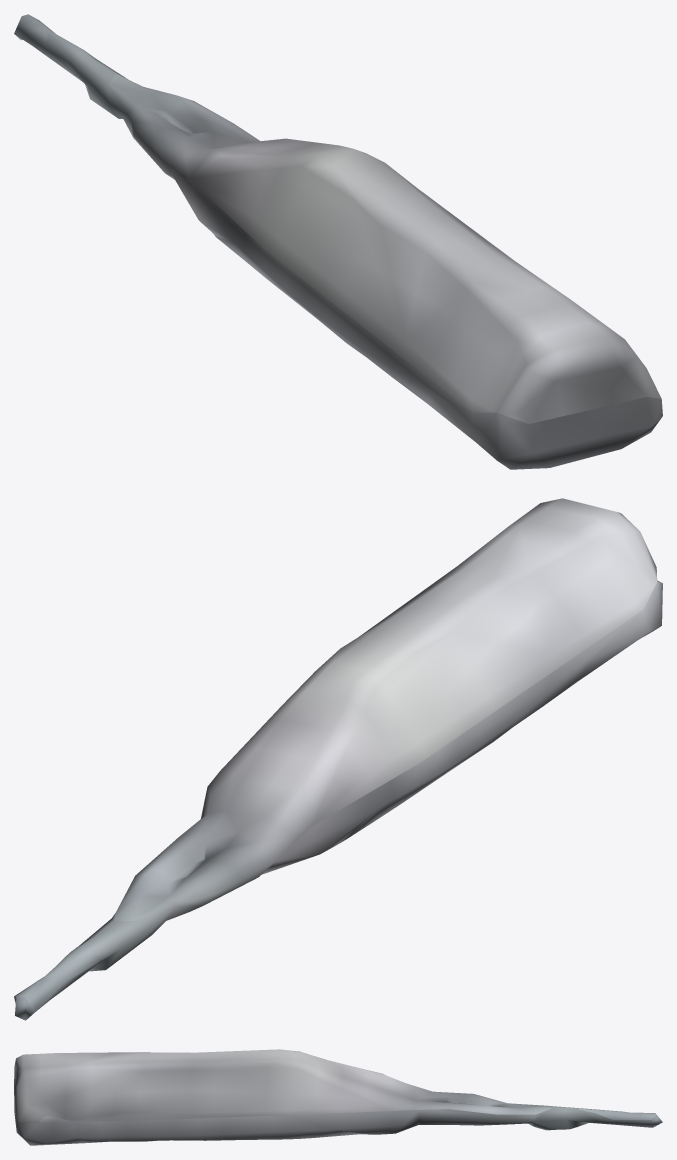
Rendered from freighter_part_4.glb.
3 renders of one model, top to bottom at view 1: azimuth 30°, elevation 25°; view 2: azimuth 150°, elevation 25°; view 3: azimuth 270°, elevation 25°, orthographic. The views are drawn at different scales.
Visible parts, largest first — view 1: part4; view 2: part4; view 3: part4.
Part boxes in pixels (box(x1,y1,x2,y2)): part4: box(14, 14, 662, 469); part4: box(14, 498, 662, 1020); part4: box(14, 1049, 662, 1145).
Bounding box in the file's own units: 0.0175 × 0.013 × 0.1027.
Materials: 1 (1 with a texture image).
